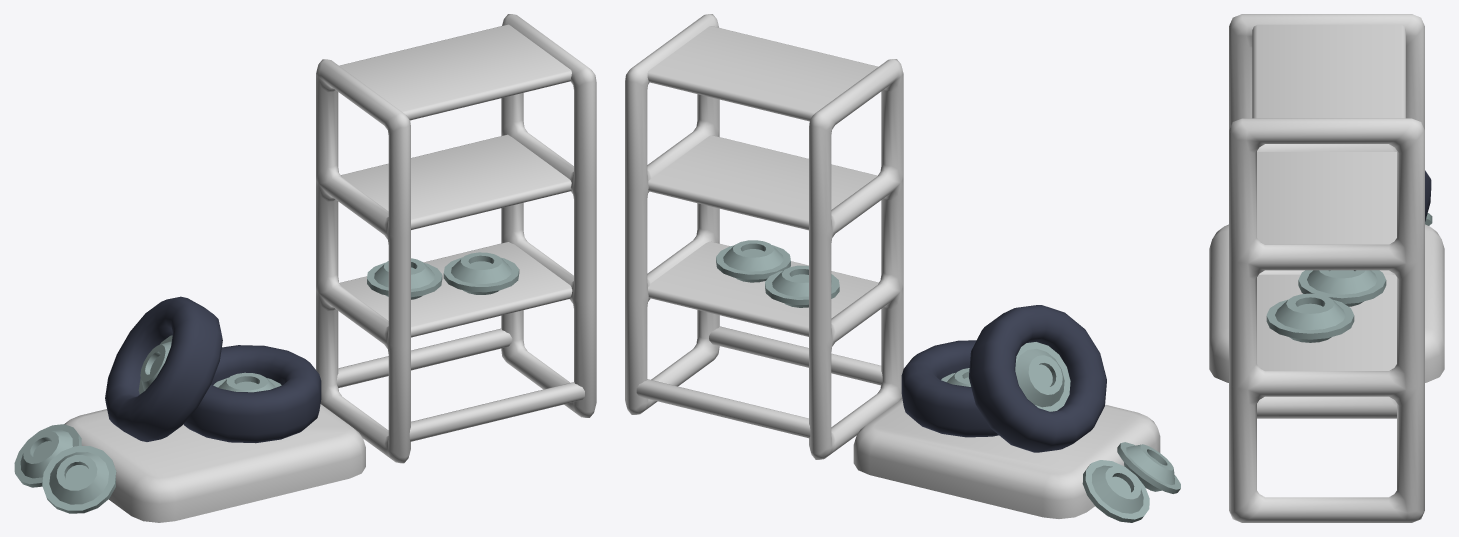
The model's file is tire_station.fbx.
The picture shows the model from 3 angles, left to right: view 1: azimuth 30°, elevation 25°; view 2: azimuth 150°, elevation 25°; view 3: azimuth 270°, elevation 25°; orthographic projection. The views are drawn at different scales.
Parts seen in each view (by area): view 1: Cube.061, Cube.058, Cube.059, Cylinder.005, Cylinder.012, Cube.057, Cylinder.008, Cylinder.009, Cylinder.007, Cylinder.006; view 2: Cube.061, Cube.058, Cube.059, Cylinder.005, Cube.057, Cylinder.012, Cylinder.007, Cylinder.009, Cylinder.008, Cylinder.006; view 3: Cube.061, Cube.058, Cube.059, Cylinder.009, Cylinder.006.
Part boxes in pixels (x1,y1,x2,y2): Cube.061: (316, 14, 596, 463); Cube.058: (339, 24, 572, 337); Cube.059: (64, 404, 365, 522); Cylinder.005: (105, 296, 222, 441); Cylinder.012: (183, 345, 321, 443); Cube.057: (336, 328, 584, 441); Cylinder.008: (42, 446, 116, 513); Cylinder.009: (443, 252, 519, 294); Cylinder.007: (14, 424, 81, 487); Cylinder.006: (367, 258, 442, 299); Cube.061: (625, 14, 903, 459); Cube.058: (647, 26, 878, 336); Cube.059: (853, 398, 1160, 518); Cylinder.005: (969, 305, 1106, 452); Cube.057: (636, 326, 882, 438); Cylinder.012: (901, 340, 998, 437); Cylinder.007: (1082, 460, 1149, 522); Cylinder.009: (716, 240, 790, 282); Cylinder.008: (1117, 442, 1180, 493); Cylinder.006: (765, 265, 839, 307); Cube.061: (1229, 14, 1424, 522); Cube.058: (1252, 24, 1405, 370); Cube.059: (1209, 224, 1444, 382); Cylinder.009: (1266, 293, 1354, 342); Cylinder.006: (1298, 270, 1386, 306).
Size of the model in its own units: 556 by 361 by 191.
